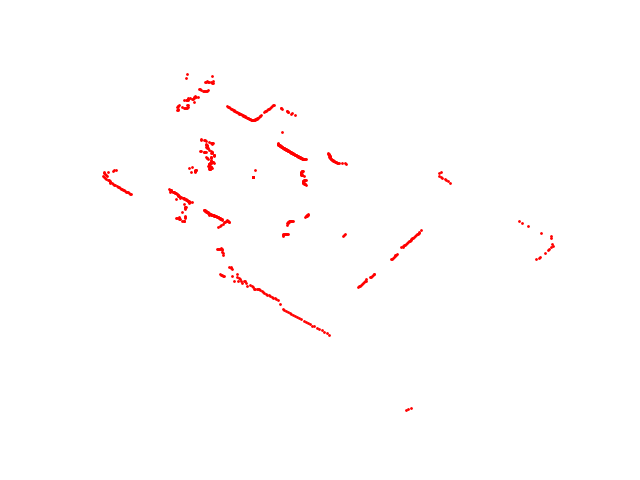person: (280, 218, 296, 240), (298, 168, 310, 189)
